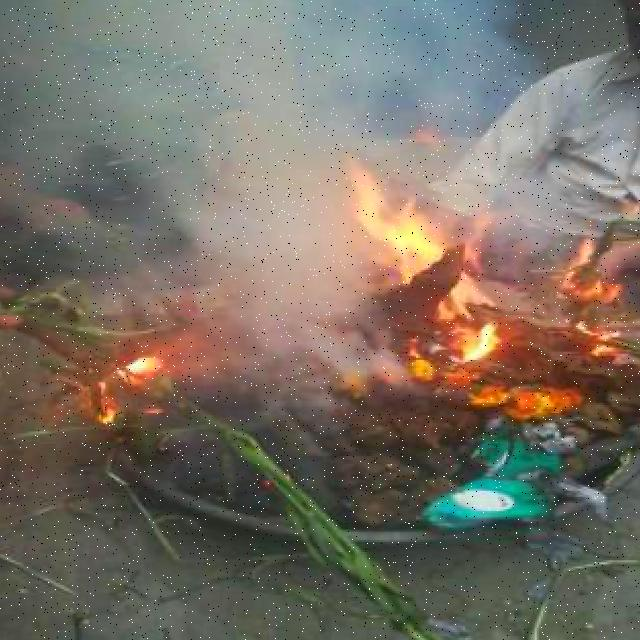fire: (342, 151, 488, 327), (561, 249, 640, 364), (68, 346, 170, 430), (455, 319, 504, 374)
smoke: (0, 0, 576, 170), (166, 170, 354, 384), (0, 172, 167, 348)
